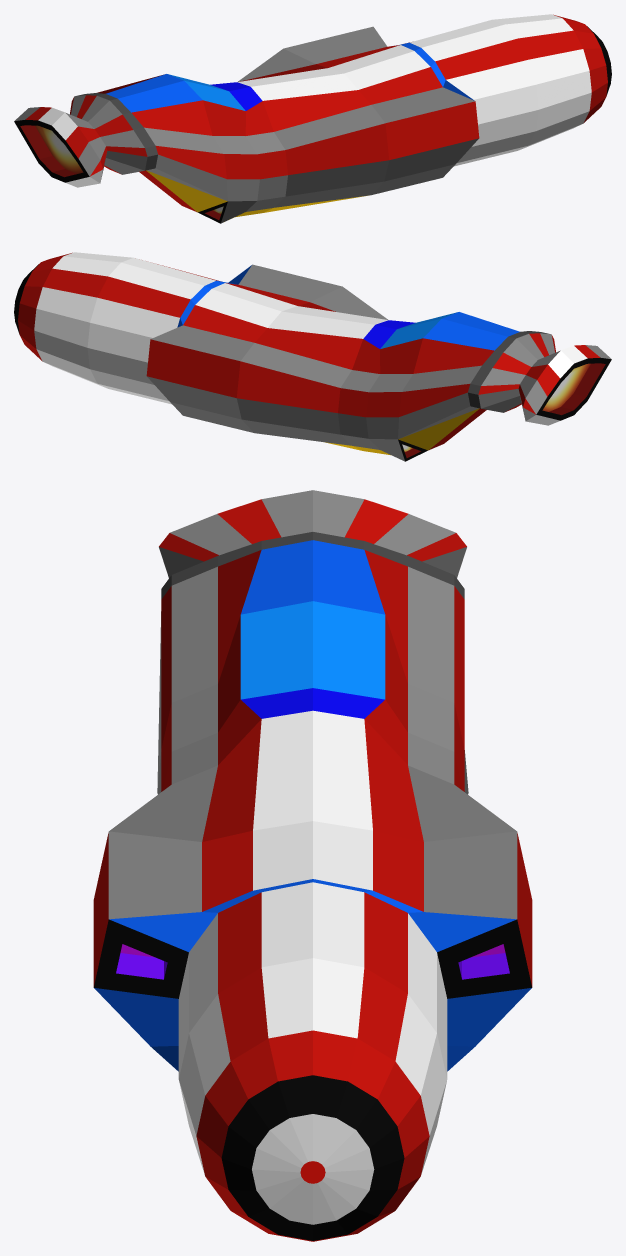
File: Kamikadze.fbx
The picture shows the model from 3 angles, top to bottom: view 1: azimuth 30°, elevation 25°; view 2: azimuth 150°, elevation 25°; view 3: azimuth 270°, elevation 25°; orthographic projection. The views are drawn at different scales.
Parts seen in each view (by area): view 1: Kamikadze; view 2: Kamikadze; view 3: Kamikadze.
Boxes of the visible parts, x1,y1,x2,y2 form: Kamikadze: (14, 14, 611, 223); Kamikadze: (14, 252, 611, 461); Kamikadze: (93, 490, 532, 1241).
Bounding box in the file's own units: 943 × 237 × 327.
